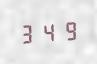four: (39, 20, 58, 43)
nine: (59, 19, 78, 41)
three: (18, 22, 37, 44)
